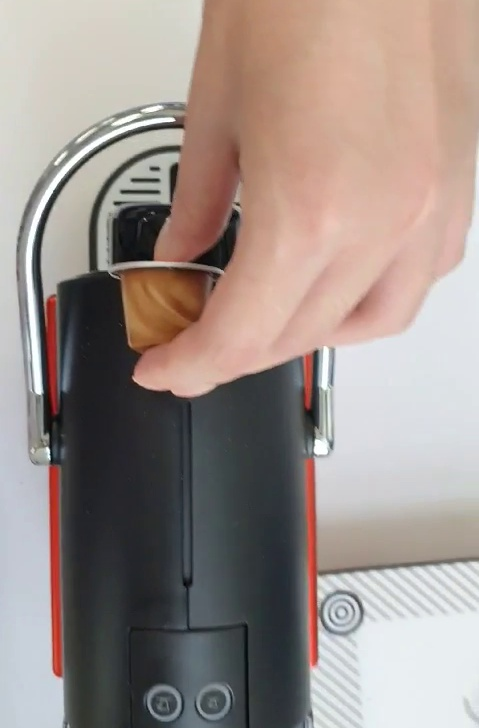capsule_12: (108, 258, 227, 360)
